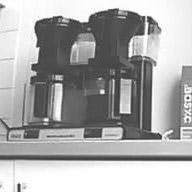empty coffee: (26, 69, 80, 129)
not empty coffee: (82, 67, 138, 130)
